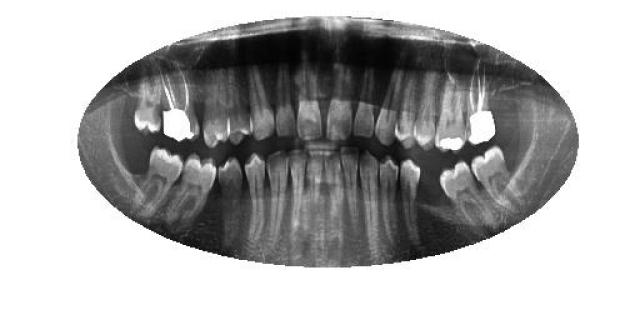Fillings: (437, 75, 468, 153)
Implant: (160, 65, 200, 144), (465, 59, 497, 145)
